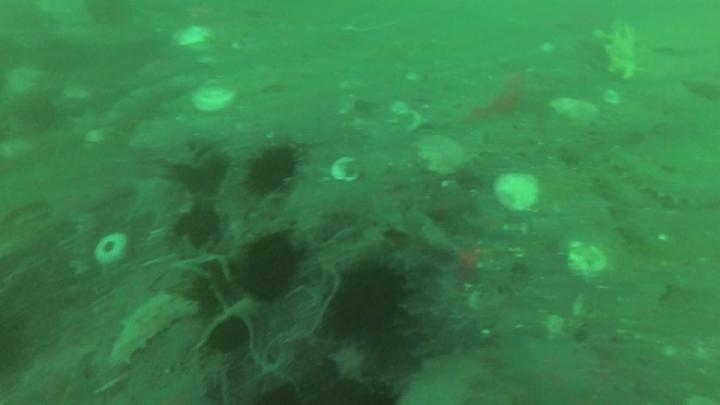echinus: (330, 261, 408, 334), (240, 235, 298, 299), (173, 148, 226, 193), (246, 151, 297, 192), (173, 210, 220, 250), (211, 319, 249, 353)
holothurian: (110, 291, 201, 368), (611, 149, 720, 206)
scallop: (413, 136, 463, 179), (493, 173, 541, 211), (191, 79, 234, 115)
starfish: (506, 334, 592, 404), (328, 343, 364, 383)
